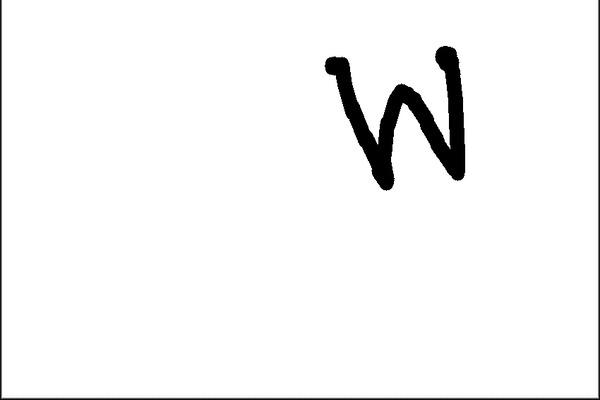w: (300, 38, 486, 200)
